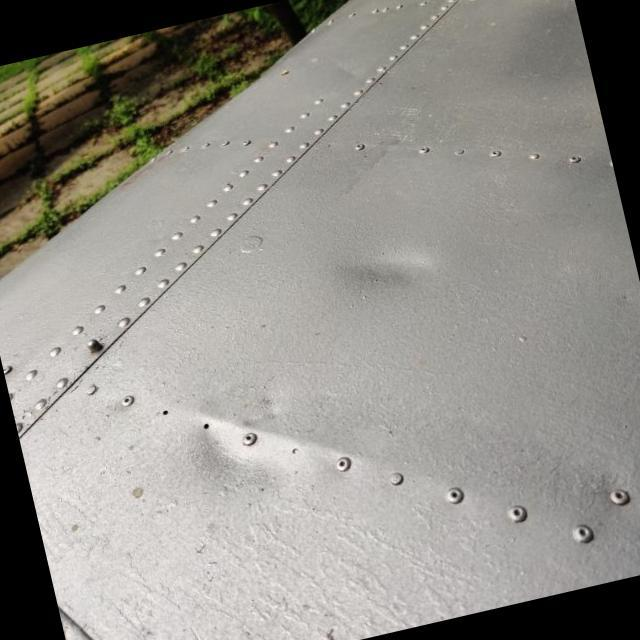Dent: (296, 176, 474, 347), (153, 362, 331, 533)
